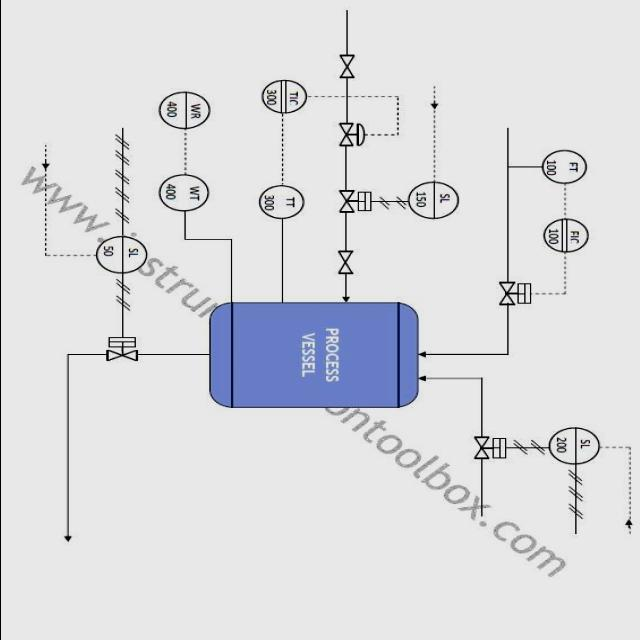Gate Valve: (324, 38, 362, 82), (334, 247, 358, 280)
Pneumatic-Diaphragm Gate Valve: (332, 120, 370, 152)
Rotary Piston-Pneumatic Gate Valve: (328, 182, 376, 216), (98, 330, 144, 364), (494, 280, 539, 310), (477, 428, 512, 458)
